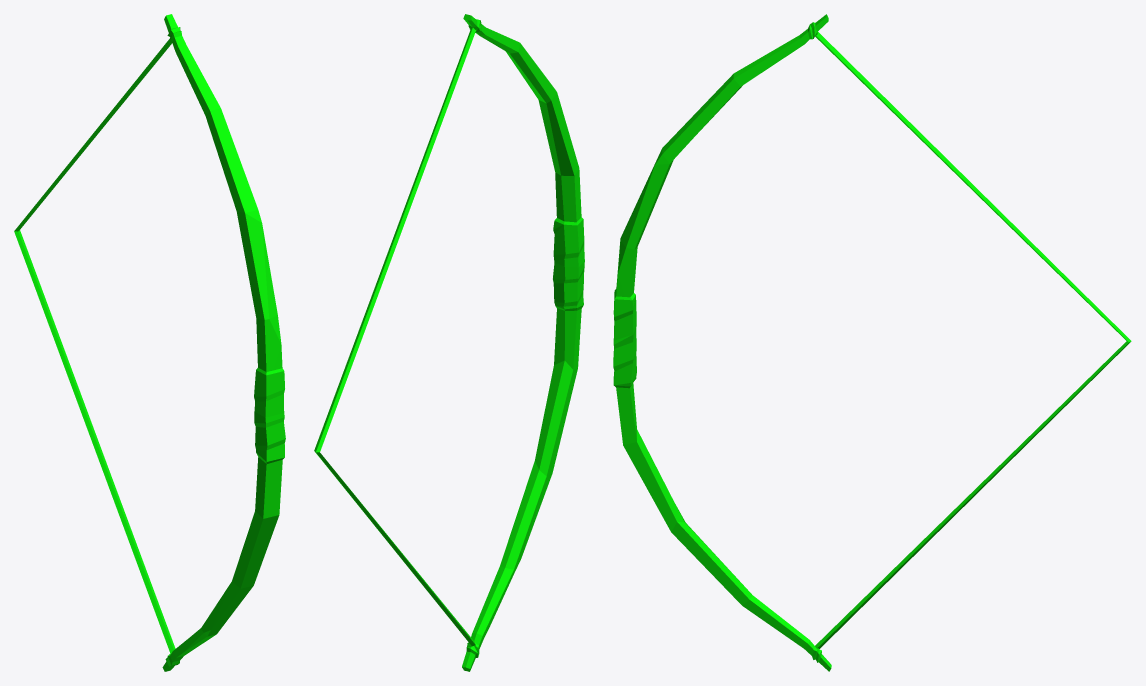
File: SM_Bow_Short_Drawn_Fantasy.fbx
3 renders of one model, left to right at view 1: azimuth 30°, elevation 25°; view 2: azimuth 150°, elevation 25°; view 3: azimuth 270°, elevation 25°, orthographic.
Visible parts, largest first — view 1: bow-short-drawn-fantasy; view 2: bow-short-drawn-fantasy; view 3: bow-short-drawn-fantasy.
Boxes of the visible parts, box(x1,y1,x2,y2) form: bow-short-drawn-fantasy: box(14, 14, 285, 671); bow-short-drawn-fantasy: box(314, 14, 584, 671); bow-short-drawn-fantasy: box(613, 14, 1131, 671).
Bounding box in the file's own units: 0.043 × 1.06 × 0.7618.
